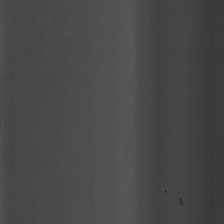oil_spot: (159, 185, 186, 213)
